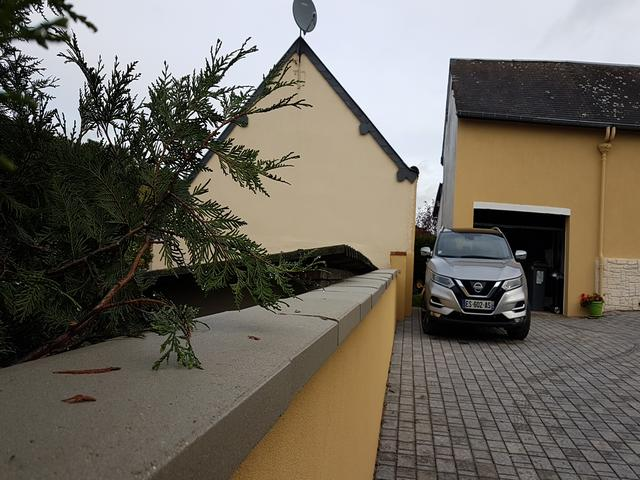Quashquai: (457, 294, 499, 315)
